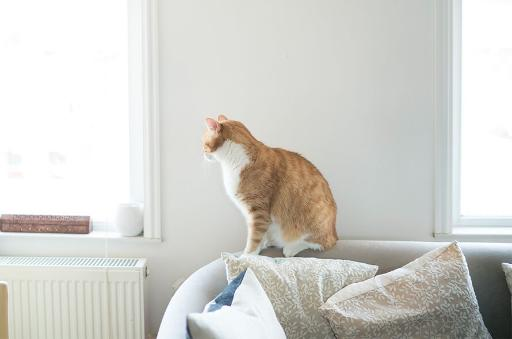cat_sitting: (202, 115, 338, 257)
